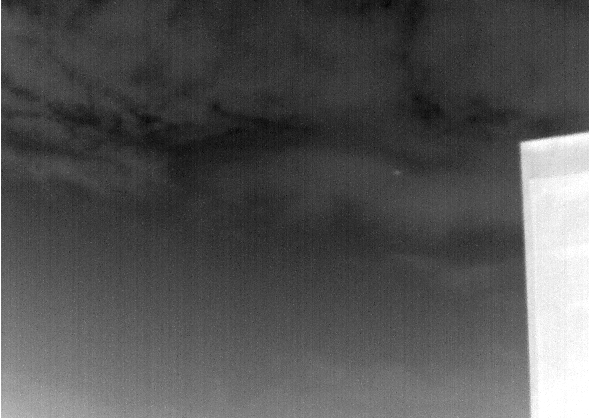dim target: (393, 169, 401, 175)
